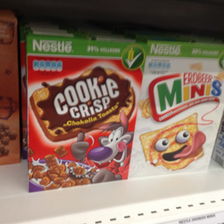cereal: (25, 36, 149, 194), (141, 40, 224, 180)
